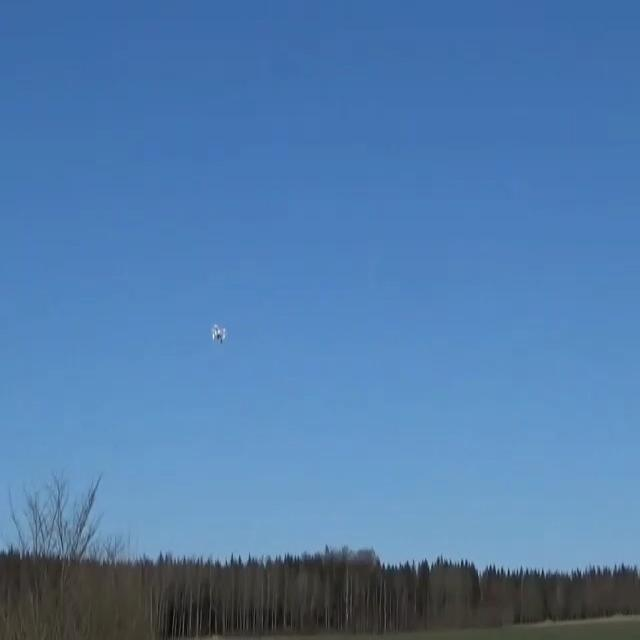drone: (211, 322, 227, 345)
